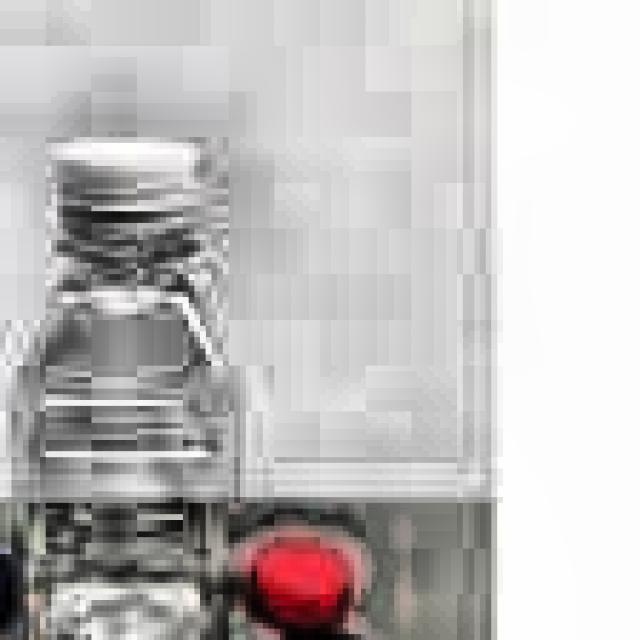plastic: (6, 131, 303, 640)
